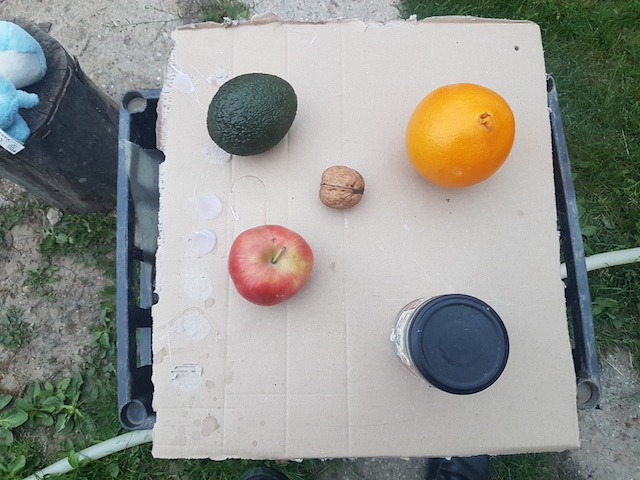apple: (228, 221, 317, 307)
avocado: (204, 71, 300, 157)
nut: (316, 164, 365, 212)
orange: (404, 80, 516, 193)
recipient: (405, 291, 510, 396)
